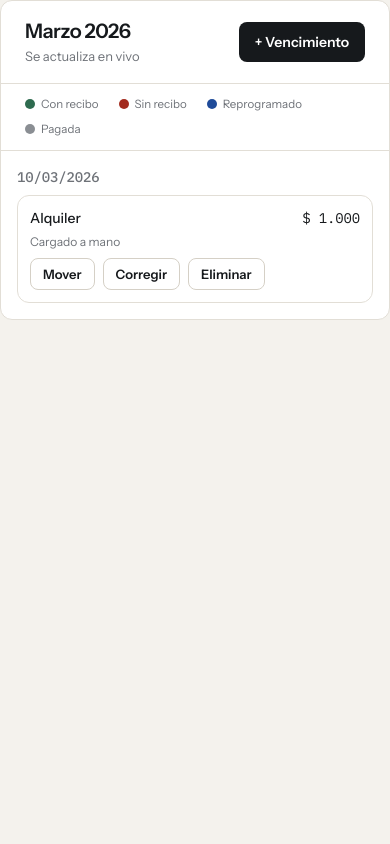
Scenario: mover un vencimiento al pasado (RF-25) › la pregunta la dispara el código de la negativa, no el texto del mensaje
Click the button "Mover" at [62, 274], box x1=30 y1=258 x2=94 y2=290
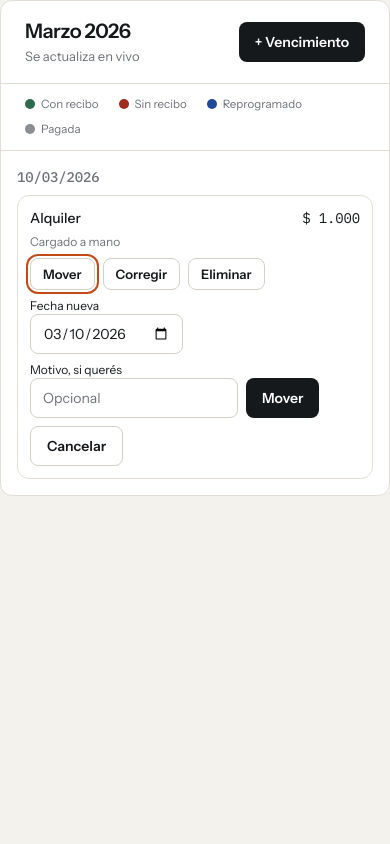
Type "2020-01-15" into the date field labelled "Fecha nueva" at [106, 334], box x1=30 y1=314 x2=183 y2=354
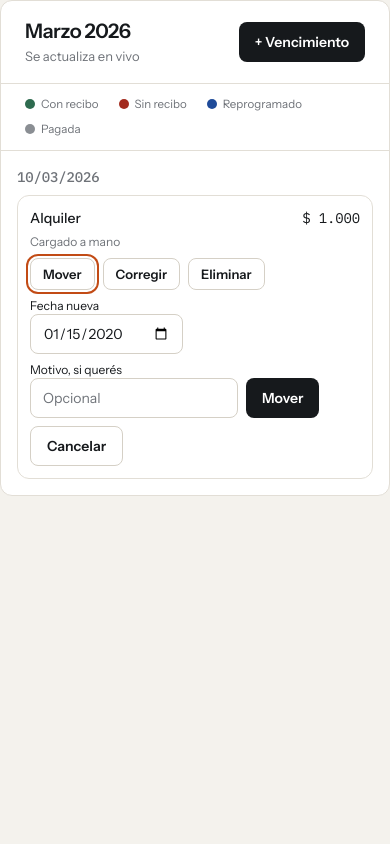
Submit the form labelled "Fecha nueva", box x1=30 y1=298 x2=360 y2=466
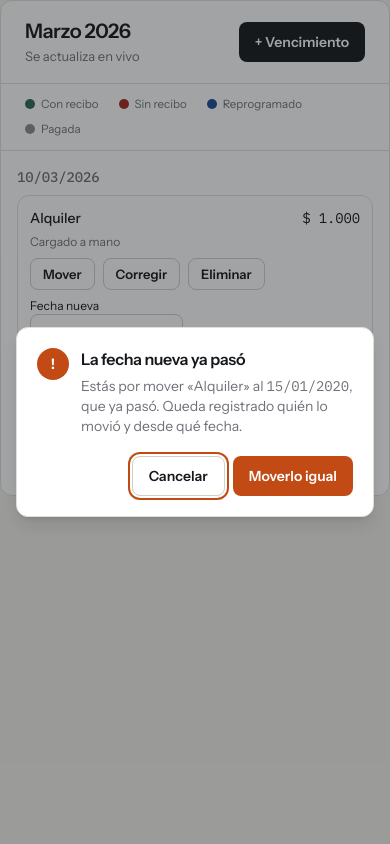
Expected: the dialog is shown, x1=16 y1=327 x2=374 y2=517
Expected: the dialog shows "Alquiler", x1=193 y1=377 x2=243 y2=395
Expected: the dialog shows "15/01/2020", x1=266 y1=377 x2=349 y2=395
